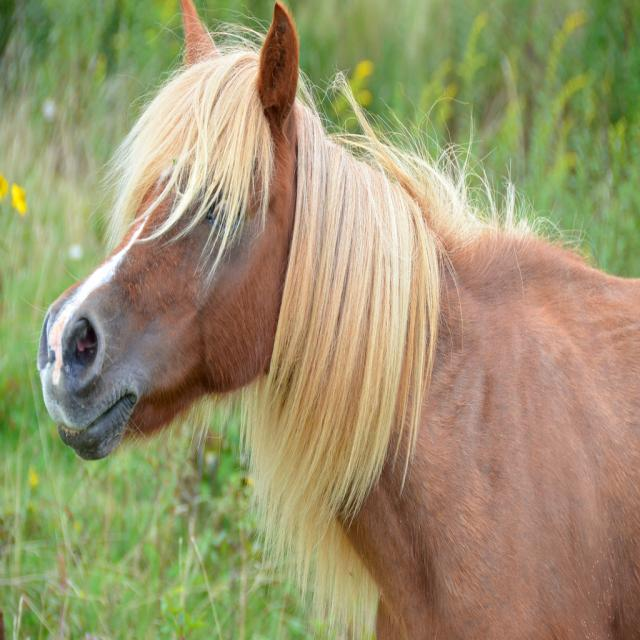Horse: (36, 0, 639, 639)
